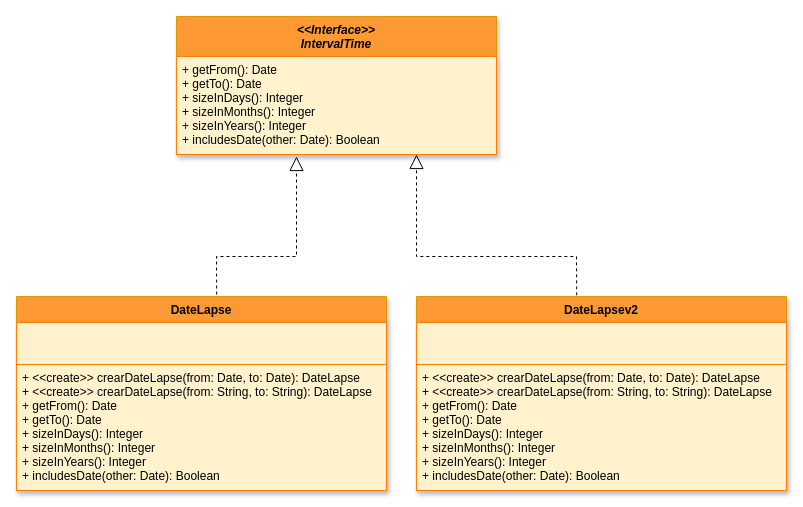
The diagram is 803 pixels wide and 507 high, and some of its shapes have lost their labels. Here are the shapes that lost their labels. From the top down, the centre of each, then its label:
At [202,345]: "- from: Date - to: Date".
At [602,345]: "- from: Date - sizeInDays: Integer".
